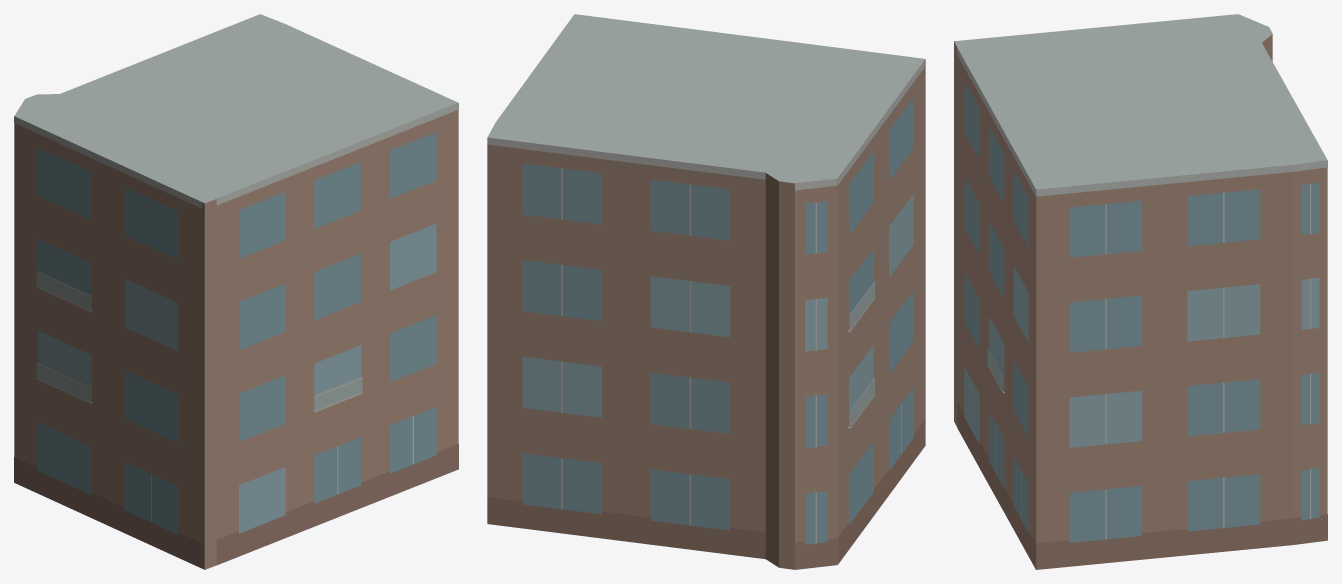
File: survey-upis-32962004.glb
3 views of the same model, side by side, from view 1: azimuth 30°, elevation 25°; view 2: azimuth 150°, elevation 25°; view 3: azimuth 270°, elevation 25° (orthographic). The views are drawn at different scales.
Parts seen in each view (by area): view 1: survey-upis-32962004.tmp; view 2: survey-upis-32962004.tmp; view 3: survey-upis-32962004.tmp.
Part boxes in pixels (left/top/right/bottom): survey-upis-32962004.tmp: left=14, top=14, right=458, bottom=569; survey-upis-32962004.tmp: left=487, top=14, right=925, bottom=569; survey-upis-32962004.tmp: left=954, top=14, right=1327, bottom=569.
Size of the model in its own units: 13.09 by 13.2 by 11.77.
